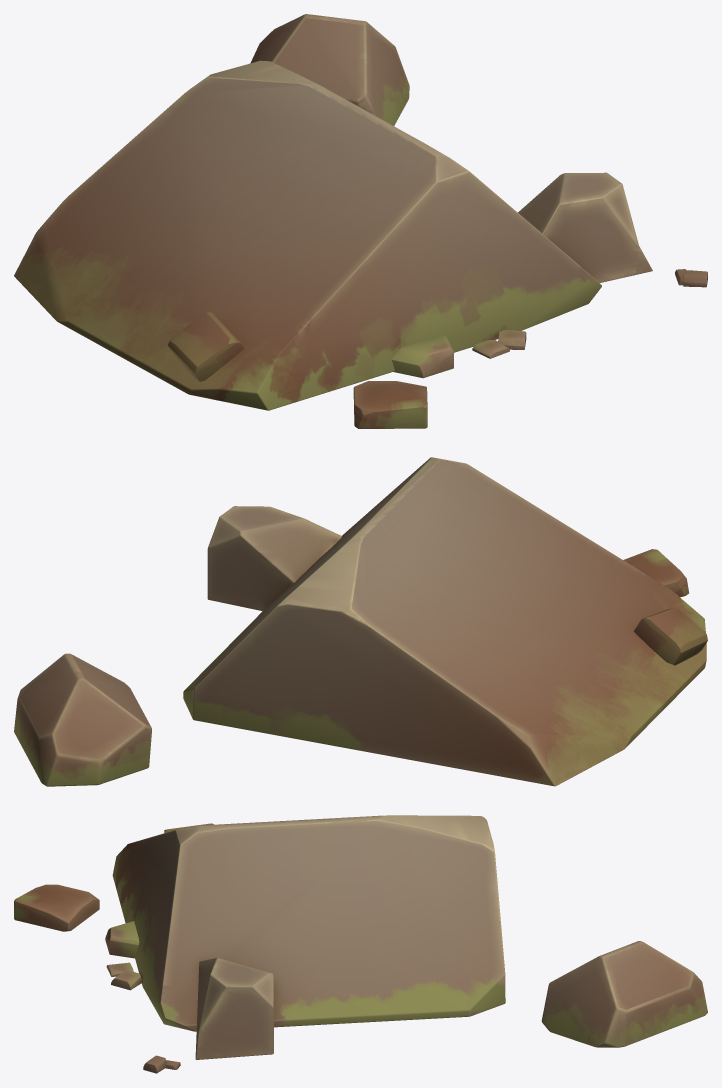
Rendered from Rock Type 1.fbx.
The picture shows the model from 3 angles, top to bottom: view 1: azimuth 30°, elevation 25°; view 2: azimuth 150°, elevation 25°; view 3: azimuth 270°, elevation 25°; orthographic projection. The views are drawn at different scales.
Parts seen in each view (by area): view 1: Cube.086, Cube.087, Cube.089, Cube.091, Cube.090, Cube.092; view 2: Cube.086, Cube.087, Cube.089, Cube.090, Cube.091; view 3: Cube.086, Cube.087, Cube.089, Cube.091, Cube.092, Cube.094.
Part boxes in pixels (box(x1,y1,x2,y2)): Cube.086: box(14, 60, 601, 410); Cube.087: box(250, 14, 409, 125); Cube.089: box(518, 172, 652, 282); Cube.091: box(353, 381, 427, 428); Cube.090: box(168, 312, 244, 381); Cube.092: box(392, 335, 453, 378); Cube.086: box(183, 457, 706, 786); Cube.087: box(14, 653, 151, 786); Cube.089: box(207, 506, 341, 610); Cube.090: box(634, 608, 707, 665); Cube.091: box(623, 549, 688, 597); Cube.086: box(112, 815, 505, 1031); Cube.087: box(541, 941, 707, 1047); Cube.089: box(195, 957, 273, 1059); Cube.091: box(14, 884, 99, 931); Cube.092: box(105, 921, 139, 958); Cube.094: box(111, 970, 141, 990).
Size of the model in its own units: 4169 by 1238 by 5409.
